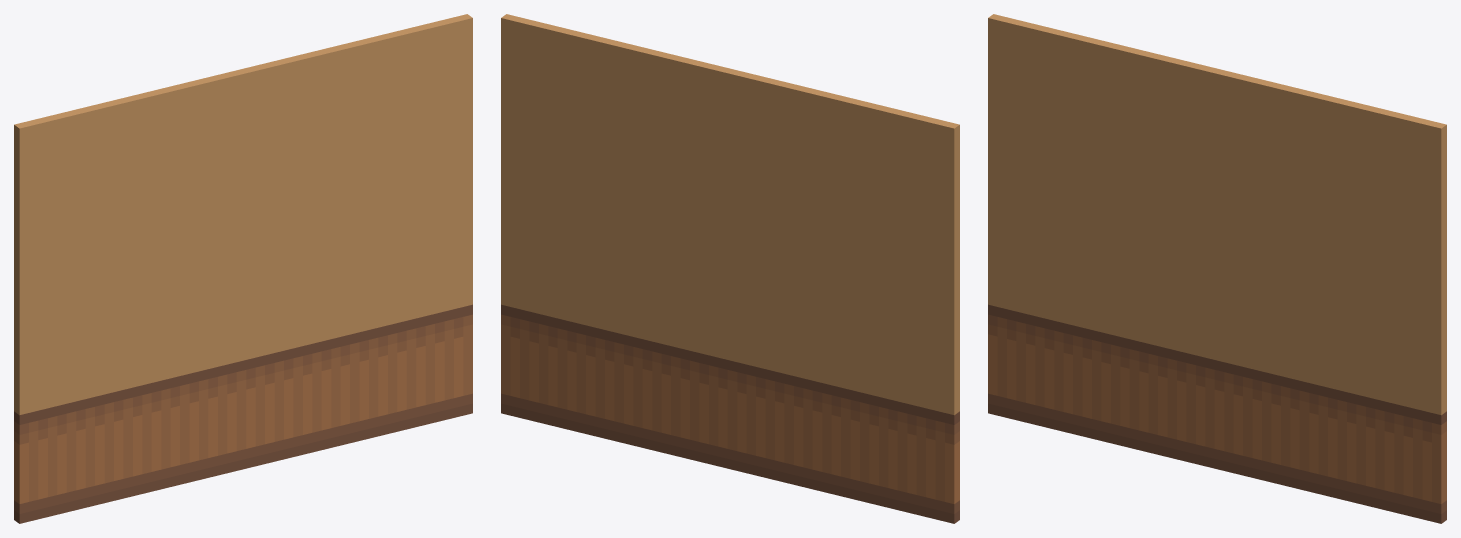
The model's file is Interior_Furniture-4.obj.
3 renders of one model, left to right at view 1: azimuth 30°, elevation 25°; view 2: azimuth 150°, elevation 25°; view 3: azimuth 330°, elevation 25°, orthographic.
Bounding box in the file's own units: 4.8 × 4 × 0.1.
1 material, 1 textured.
